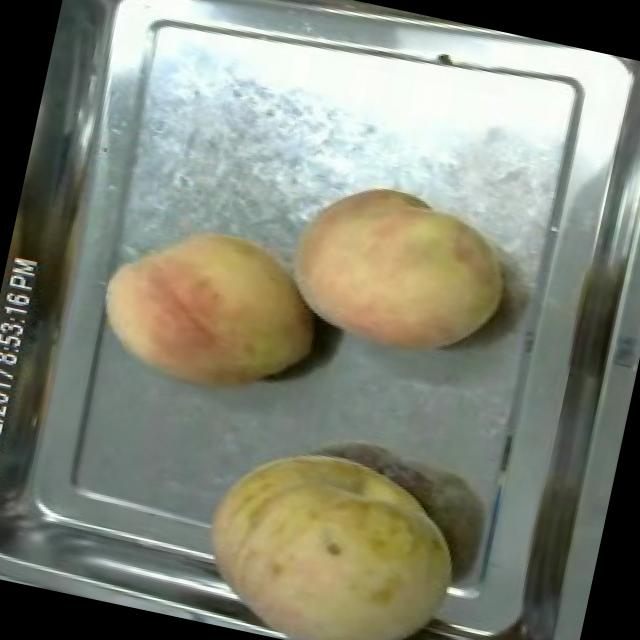Fruit: (179, 419, 485, 640), (81, 201, 340, 419), (268, 162, 526, 380)
